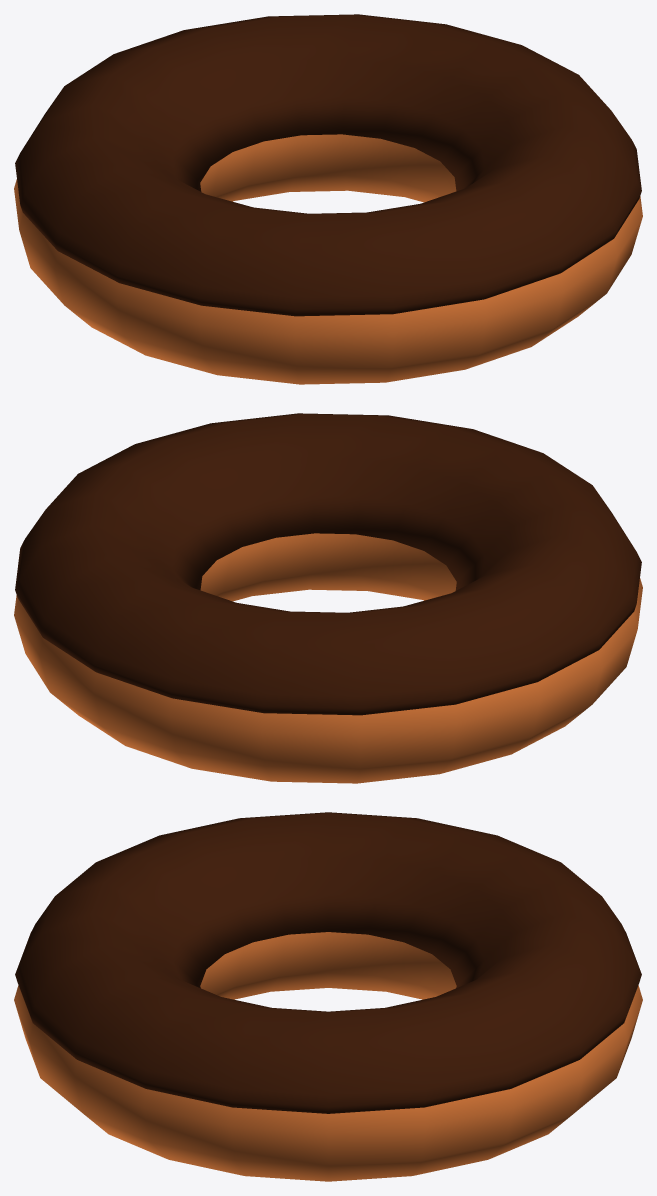
Rendered from donut.glb.
3 views of the same model, one above another, from view 1: azimuth 30°, elevation 25°; view 2: azimuth 150°, elevation 25°; view 3: azimuth 270°, elevation 25° (orthographic).
Visible parts, largest first — view 1: Torus.003; view 2: Torus.003; view 3: Torus.003.
Boxes of the visible parts, bbox=[...] form: Torus.003: bbox=[14, 14, 642, 384]; Torus.003: bbox=[14, 413, 642, 783]; Torus.003: bbox=[14, 812, 642, 1181].
Size of the model in its own units: 2.06 by 0.5931 by 2.06.
